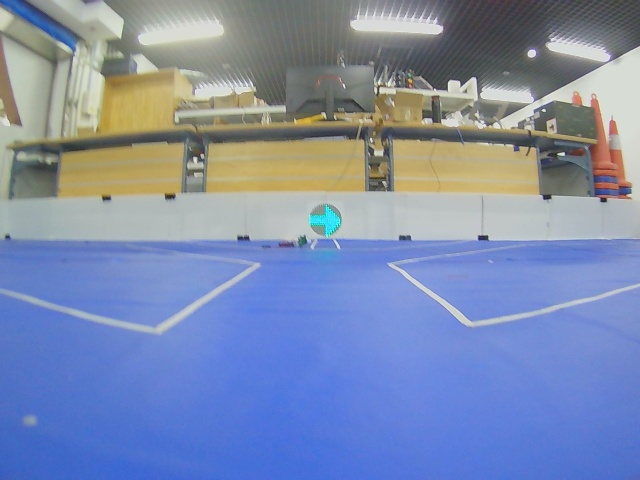right_green: (309, 204, 342, 237)
